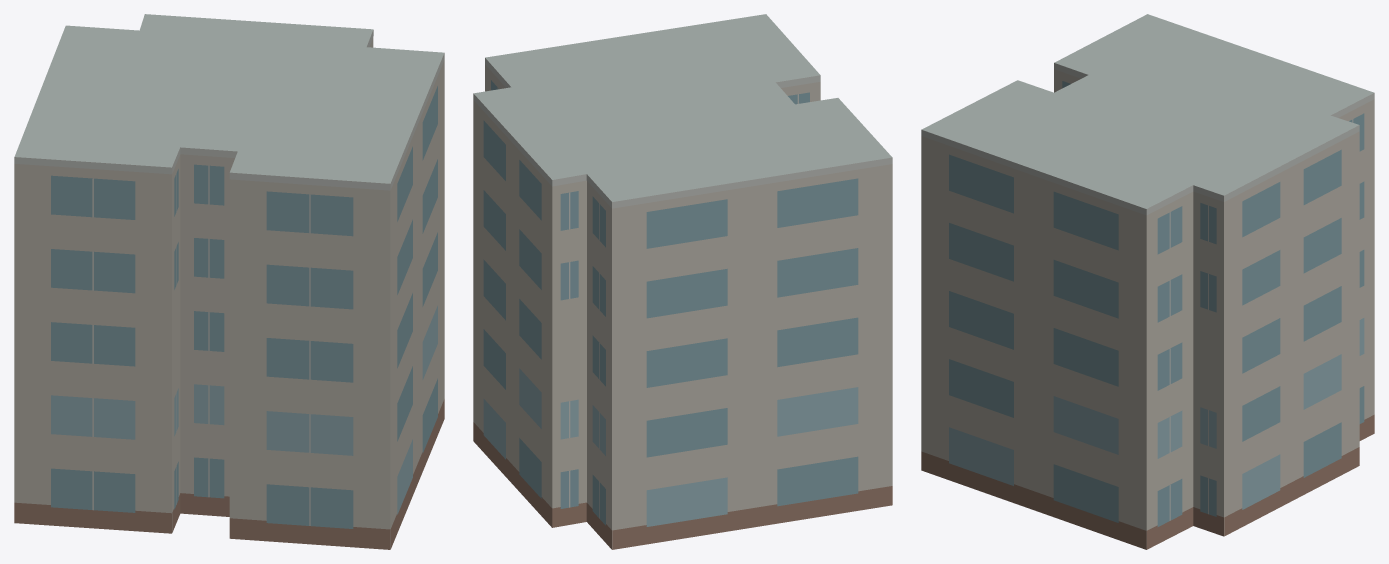
The model's file is survey-upis-33004805.glb.
3 renders of one model, left to right at view 1: azimuth 30°, elevation 25°; view 2: azimuth 150°, elevation 25°; view 3: azimuth 270°, elevation 25°, orthographic. The views are drawn at different scales.
Parts seen in each view (by area): view 1: survey-upis-33004805.tmp; view 2: survey-upis-33004805.tmp; view 3: survey-upis-33004805.tmp.
Part boxes in pixels (<box>): survey-upis-33004805.tmp: <box>14,14,444,549</box>; survey-upis-33004805.tmp: <box>473,14,892,549</box>; survey-upis-33004805.tmp: <box>921,14,1374,549</box>.
Size of the model in its own units: 16.1 by 13.1 by 15.8.
